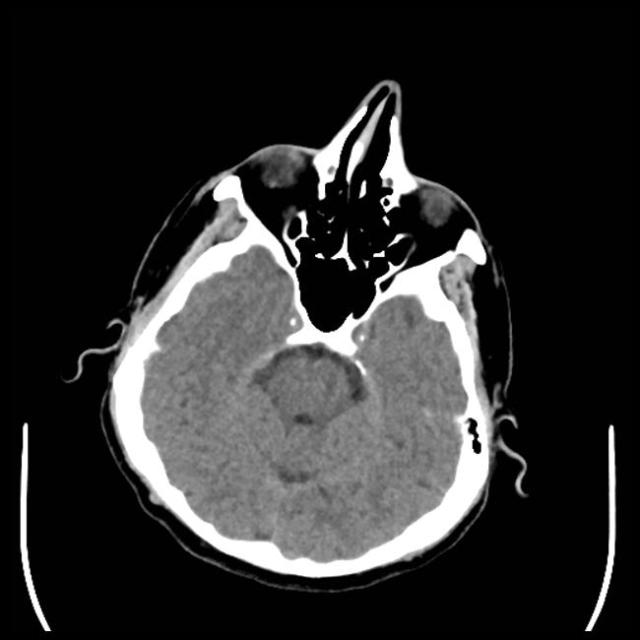lesion: (80, 78, 530, 592)
